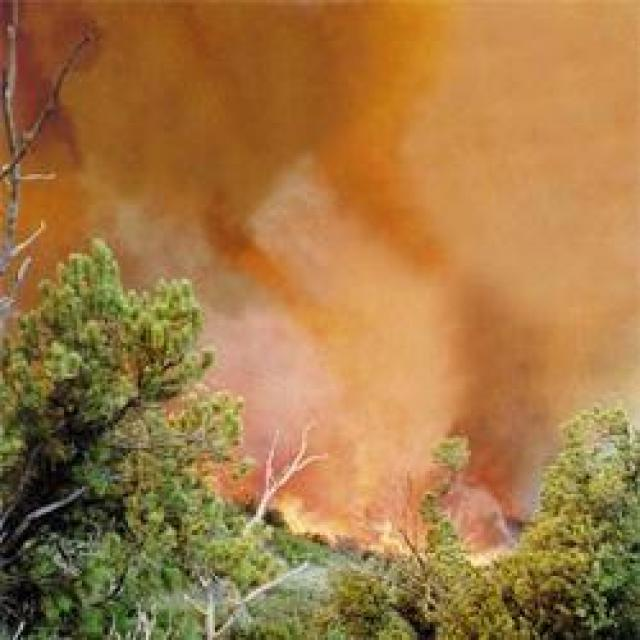fire: (272, 482, 373, 543)
smoke: (260, 142, 366, 316), (230, 318, 348, 454), (331, 366, 427, 506), (449, 463, 519, 561)
